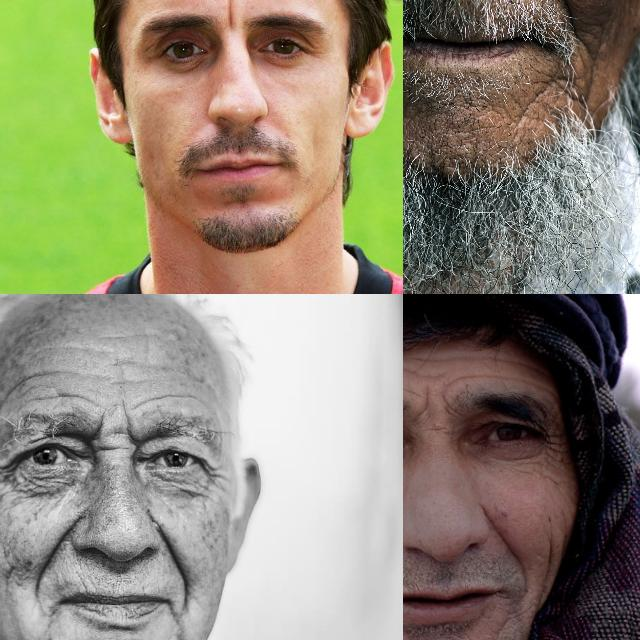chin: (531, 64, 575, 112)
crows_feet: (546, 425, 568, 471), (199, 462, 225, 496), (0, 460, 18, 488)
forehead: (20, 370, 80, 406), (488, 348, 542, 382), (409, 346, 476, 370), (468, 367, 522, 388)
frown_line: (418, 381, 452, 423), (121, 406, 141, 452), (90, 418, 110, 460), (221, 0, 238, 30)
gummy_smile: (157, 524, 190, 590), (32, 530, 68, 584), (488, 518, 524, 566)
masseter: (536, 528, 558, 588), (0, 561, 23, 603)
sad_smile: (563, 8, 599, 52), (44, 599, 60, 627), (170, 601, 181, 640)
